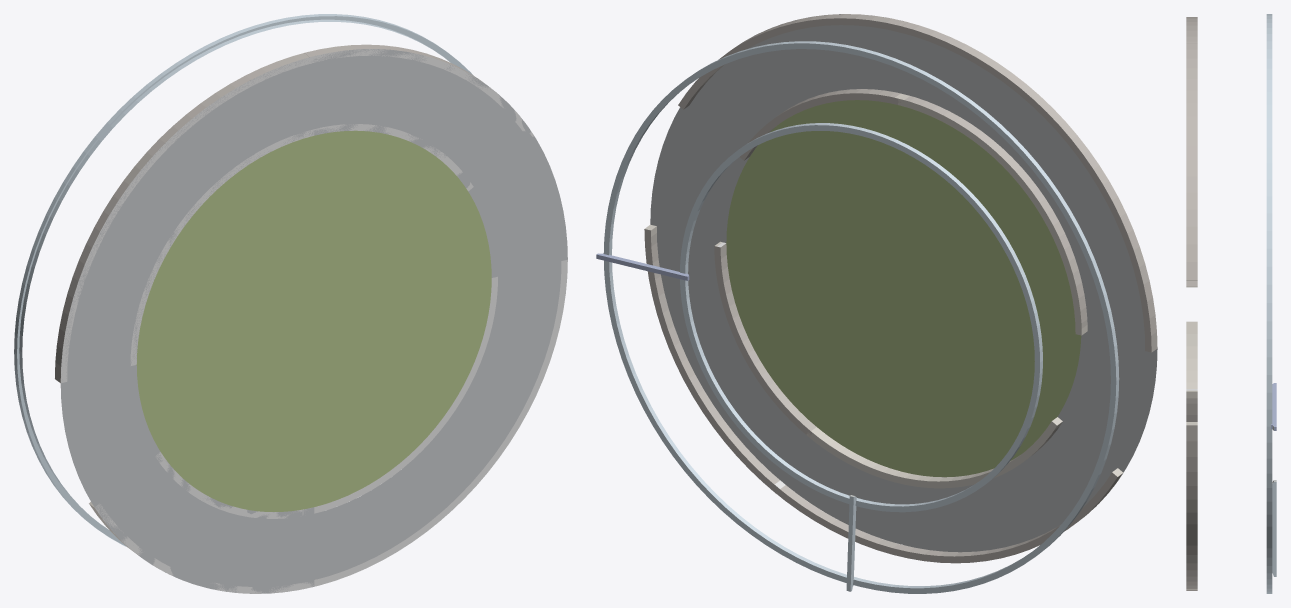
The picture shows the model from 3 angles, left to right: view 1: azimuth 30°, elevation 25°; view 2: azimuth 150°, elevation 25°; view 3: azimuth 270°, elevation 25°; orthographic projection. The views are drawn at different scales.
Parts seen in each view (by area): view 1: imagetostl_mesh817, imagetostl_mesh786, imagetostl_mesh270, imagetostl_mesh111, imagetostl_mesh112, imagetostl_mesh784, imagetostl_mesh188, imagetostl_mesh785, imagetostl_mesh669, imagetostl_mesh191, imagetostl_mesh672; view 2: imagetostl_mesh817, imagetostl_mesh786, imagetostl_mesh270, imagetostl_mesh566, imagetostl_mesh13, imagetostl_mesh686, imagetostl_mesh45, imagetostl_mesh718, imagetostl_mesh151, imagetostl_mesh632, imagetostl_mesh187, imagetostl_mesh668; view 3: imagetostl_mesh791, imagetostl_mesh613, imagetostl_mesh810, imagetostl_mesh611, imagetostl_mesh612, imagetostl_mesh614, imagetostl_mesh626, imagetostl_mesh146, imagetostl_mesh609, imagetostl_mesh610, imagetostl_mesh134, imagetostl_mesh608 (+14 smaller).
Boxes of the visible parts, x1,y1,x2,y2 form: imagetostl_mesh817: [136, 130, 491, 511]; imagetostl_mesh786: [60, 49, 567, 593]; imagetostl_mesh270: [17, 16, 470, 545]; imagetostl_mesh111: [60, 56, 314, 382]; imagetostl_mesh112: [130, 129, 314, 365]; imagetostl_mesh784: [95, 503, 440, 593]; imagetostl_mesh188: [433, 259, 567, 523]; imagetostl_mesh785: [155, 452, 402, 518]; imagetostl_mesh669: [310, 49, 533, 136]; imagetostl_mesh191: [400, 276, 497, 467]; imagetostl_mesh672: [311, 124, 473, 191]; imagetostl_mesh817: [726, 100, 1081, 477]; imagetostl_mesh786: [650, 14, 1157, 552]; imagetostl_mesh270: [603, 43, 1116, 593]; imagetostl_mesh566: [680, 125, 1039, 512]; imagetostl_mesh13: [898, 26, 1151, 352]; imagetostl_mesh686: [773, 472, 1117, 563]; imagetostl_mesh45: [898, 98, 1081, 335]; imagetostl_mesh718: [806, 421, 1056, 488]; imagetostl_mesh151: [644, 229, 778, 493]; imagetostl_mesh632: [678, 18, 902, 109]; imagetostl_mesh187: [714, 246, 812, 436]; imagetostl_mesh668: [740, 93, 900, 160]; imagetostl_mesh791: [1272, 482, 1276, 576]; imagetostl_mesh613: [1186, 226, 1197, 244]; imagetostl_mesh810: [1271, 383, 1276, 426]; imagetostl_mesh611: [1186, 192, 1197, 209]; imagetostl_mesh612: [1186, 209, 1197, 226]; imagetostl_mesh614: [1186, 262, 1197, 279]; imagetostl_mesh626: [1186, 244, 1197, 261]; imagetostl_mesh146: [1186, 425, 1197, 441]; imagetostl_mesh609: [1186, 160, 1197, 176]; imagetostl_mesh610: [1186, 176, 1197, 192]; imagetostl_mesh134: [1186, 441, 1197, 456]; imagetostl_mesh608: [1186, 145, 1197, 160].
Bounding box in the file's own units: 80334 × 80320 × 12437.
